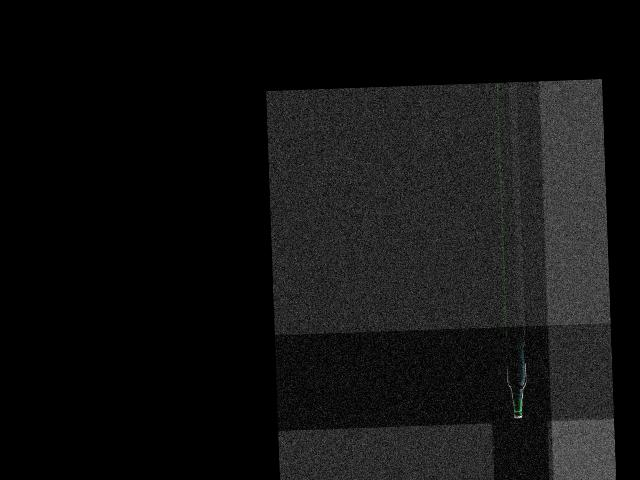beer: (506, 339, 528, 418)
